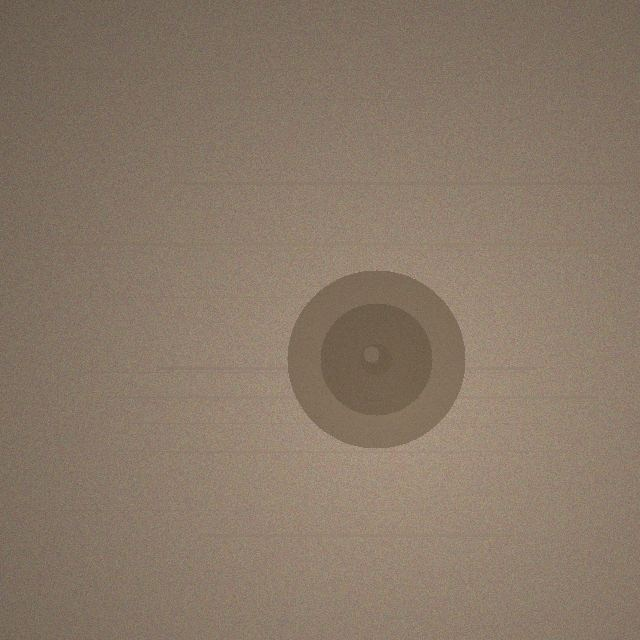good: (287, 270, 465, 448)
